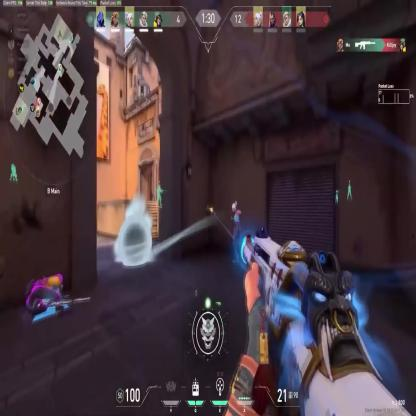enemy: (230, 201, 242, 264)
enemy_head: (231, 202, 237, 212)
